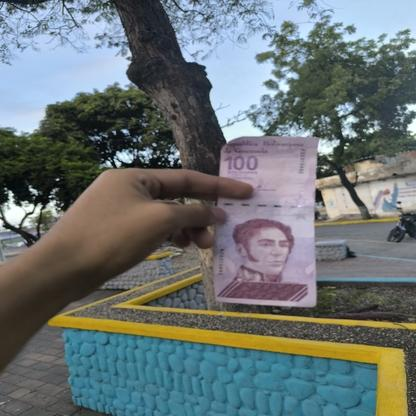one_hundred-front-vef: (214, 135, 319, 306)
